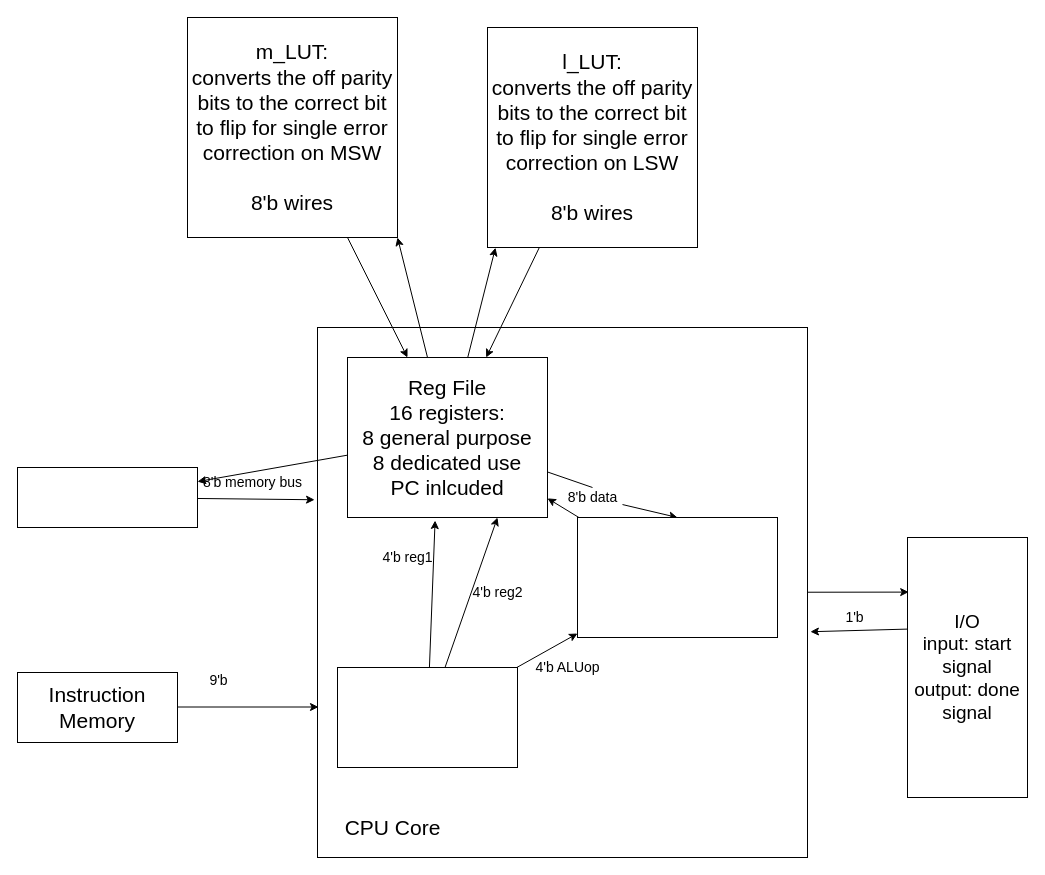
The diagram is 1045 pixels wide and 875 high, and some of its shapes have lost their labels. The shapes that lost their labels are listed below. From the top down, each one's centre as x and y in pixels, then its label:
the point at 107,497: data_mem[160]
the point at 677,577: ALU xor, rxr, lsl, lsr, add, etc.
the point at 427,717: Control Unit
